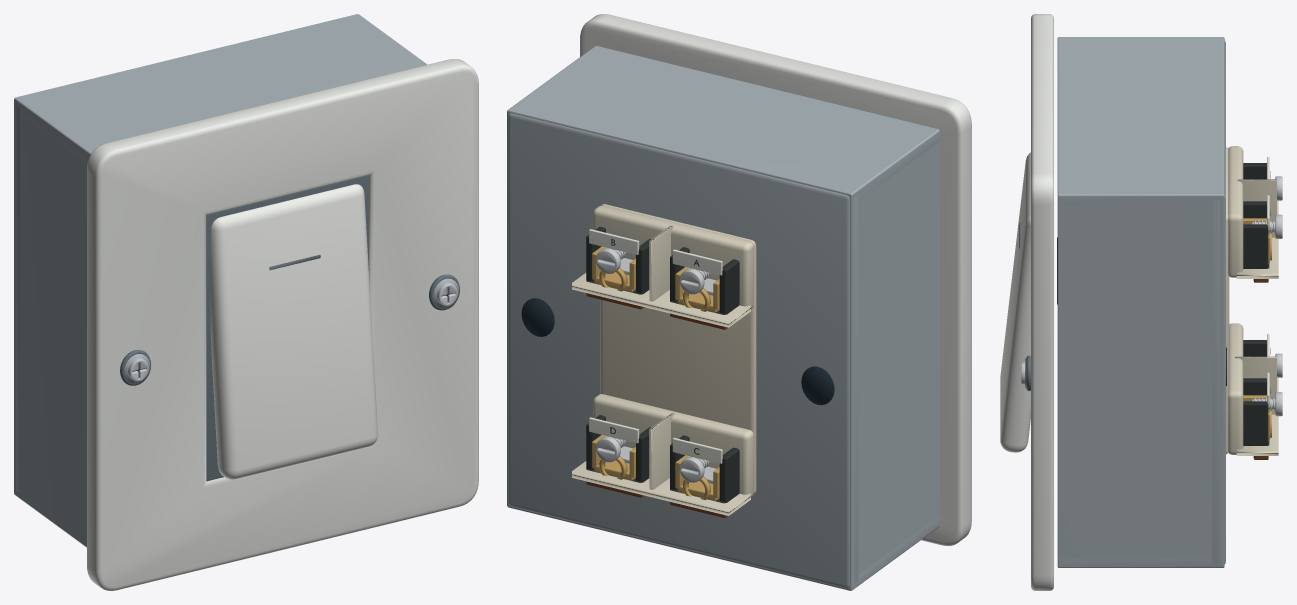
Rendered from intermediate_single-rocker.glb.
3 renders of one model, left to right at view 1: azimuth 30°, elevation 25°; view 2: azimuth 150°, elevation 25°; view 3: azimuth 270°, elevation 25°, orthographic. The views are drawn at different scales.
Visible parts, largest first — view 1: part:cover, part:body · Original 2a8198d3, motion:rocker, part:actuator, detail:faceplate-fixing · Detail zinc plated fixing, part:cover · Original 0905ee26; view 2: part:body · Original 2a8198d3, part:terminals · Original 5a609f27, part:cover, part:body · Original a463fd81, detail:terminal-clamp:C · Detail moulded engineering polymer, detail:terminal-clamp:A · Detail moulded engineering polymer, detail:terminal-clamp:B · Detail moulded engineering polymer, detail:terminal-clamp:D · Detail moulded engineering polymer, detail:terminal-clamp:C · Detail machined brass, detail:terminal-clamp:A · Detail machined brass, detail:terminal-clamp:D · Detail machined brass, detail:terminal-clamp:B · Detail machined brass (+8 smaller); view 3: part:body · Original 2a8198d3, part:cover, part:terminals · Original 5a609f27, motion:rocker, detail:terminal-clamp:B · Detail moulded engineering polymer, detail:terminal-clamp:D · Detail moulded engineering polymer, detail:terminal-clamp:A · Detail moulded engineering polymer, detail:terminal-clamp:C · Detail moulded engineering polymer.
Boxes of the visible parts, <box> form: part:cover: <box>87,59,478,590</box>; part:body · Original 2a8198d3: <box>14,14,427,547</box>; motion:rocker: <box>210,184,377,479</box>; part:actuator: <box>206,175,368,481</box>; detail:faceplate-fixing · Detail zinc plated fixing: <box>128,283,457,381</box>; part:cover · Original 0905ee26: <box>120,274,459,385</box>; part:body · Original 2a8198d3: <box>507,46,939,590</box>; part:terminals · Original 5a609f27: <box>572,204,756,515</box>; part:cover: <box>580,14,971,545</box>; part:body · Original a463fd81: <box>521,298,834,405</box>; detail:terminal-clamp:C · Detail moulded engineering polymer: <box>670,435,739,503</box>; detail:terminal-clamp:A · Detail moulded engineering polymer: <box>670,247,739,314</box>; detail:terminal-clamp:B · Detail moulded engineering polymer: <box>586,226,651,294</box>; detail:terminal-clamp:D · Detail moulded engineering polymer: <box>586,415,651,482</box>; detail:terminal-clamp:C · Detail machined brass: <box>675,455,719,500</box>; detail:terminal-clamp:A · Detail machined brass: <box>675,267,719,312</box>; detail:terminal-clamp:D · Detail machined brass: <box>592,435,635,480</box>; detail:terminal-clamp:B · Detail machined brass: <box>592,246,635,292</box>; part:body · Original 2a8198d3: <box>1057,37,1225,567</box>; part:cover: <box>1031,14,1053,590</box>; part:terminals · Original 5a609f27: <box>1226,146,1278,455</box>; motion:rocker: <box>1000,152,1030,452</box>; detail:terminal-clamp:B · Detail moulded engineering polymer: <box>1243,201,1269,268</box>; detail:terminal-clamp:D · Detail moulded engineering polymer: <box>1243,378,1269,445</box>; detail:terminal-clamp:A · Detail moulded engineering polymer: <box>1243,163,1266,179</box>; detail:terminal-clamp:C · Detail moulded engineering polymer: <box>1243,340,1266,356</box>.
Size of the model in its own units: 0.8918 by 0.9813 by 0.6055.
